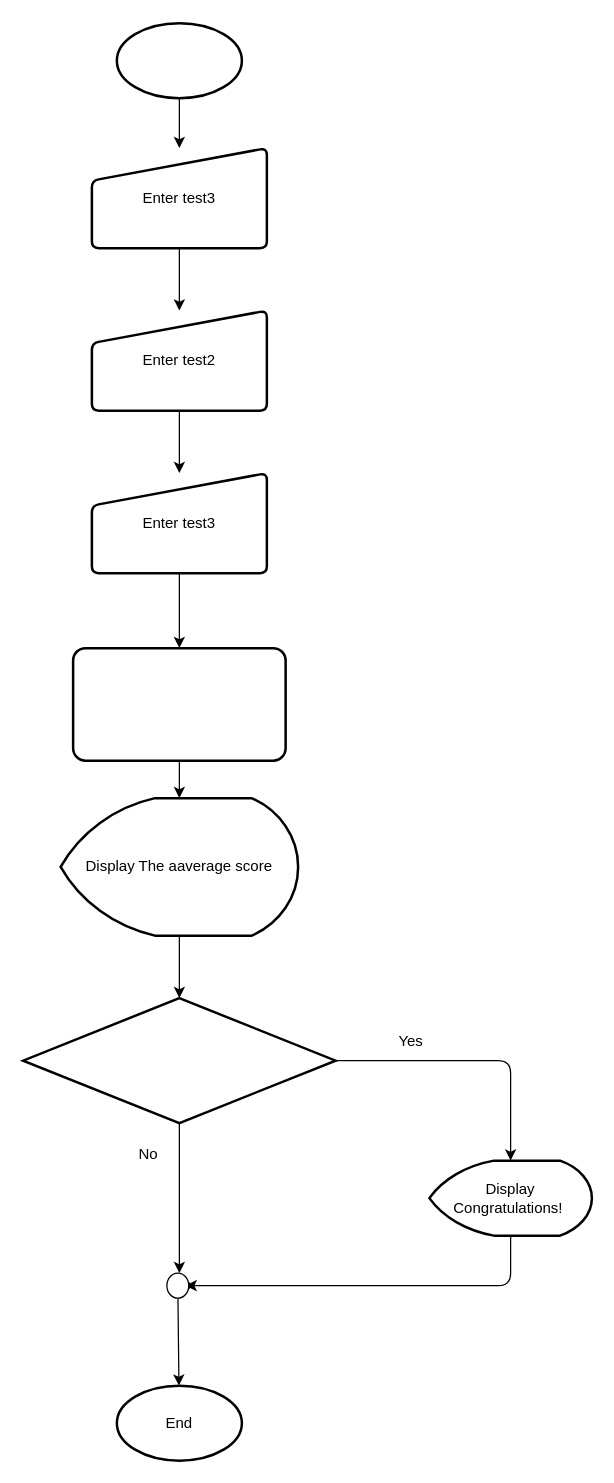
The diagram is 614 pixels wide and 1483 high, and some of its shapes have lost their labels. The box of each missing label's shape, as (x1, y1, x2, y2) in pixels:
Calculate The average: (71, 646, 286, 761)
If the average is greater than 95:: (21, 996, 336, 1124)
Start: (115, 21, 242, 99)
